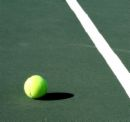tennis ball: (20, 72, 53, 100)
